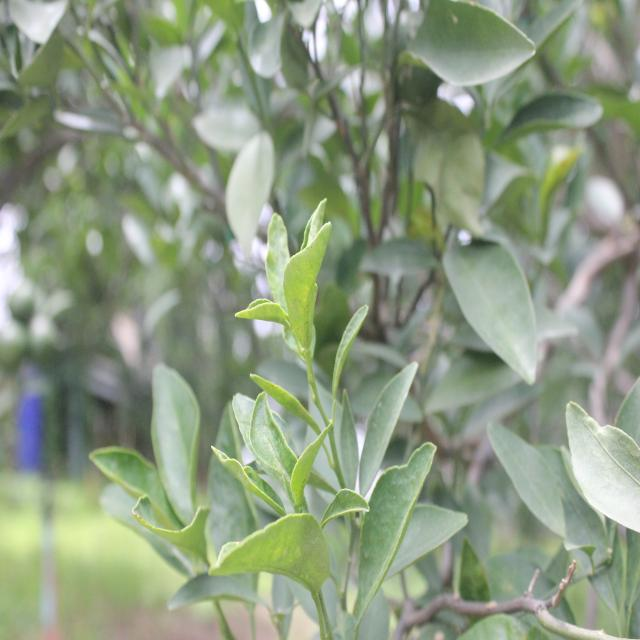blackspot: (294, 245, 324, 345), (286, 444, 317, 511)
